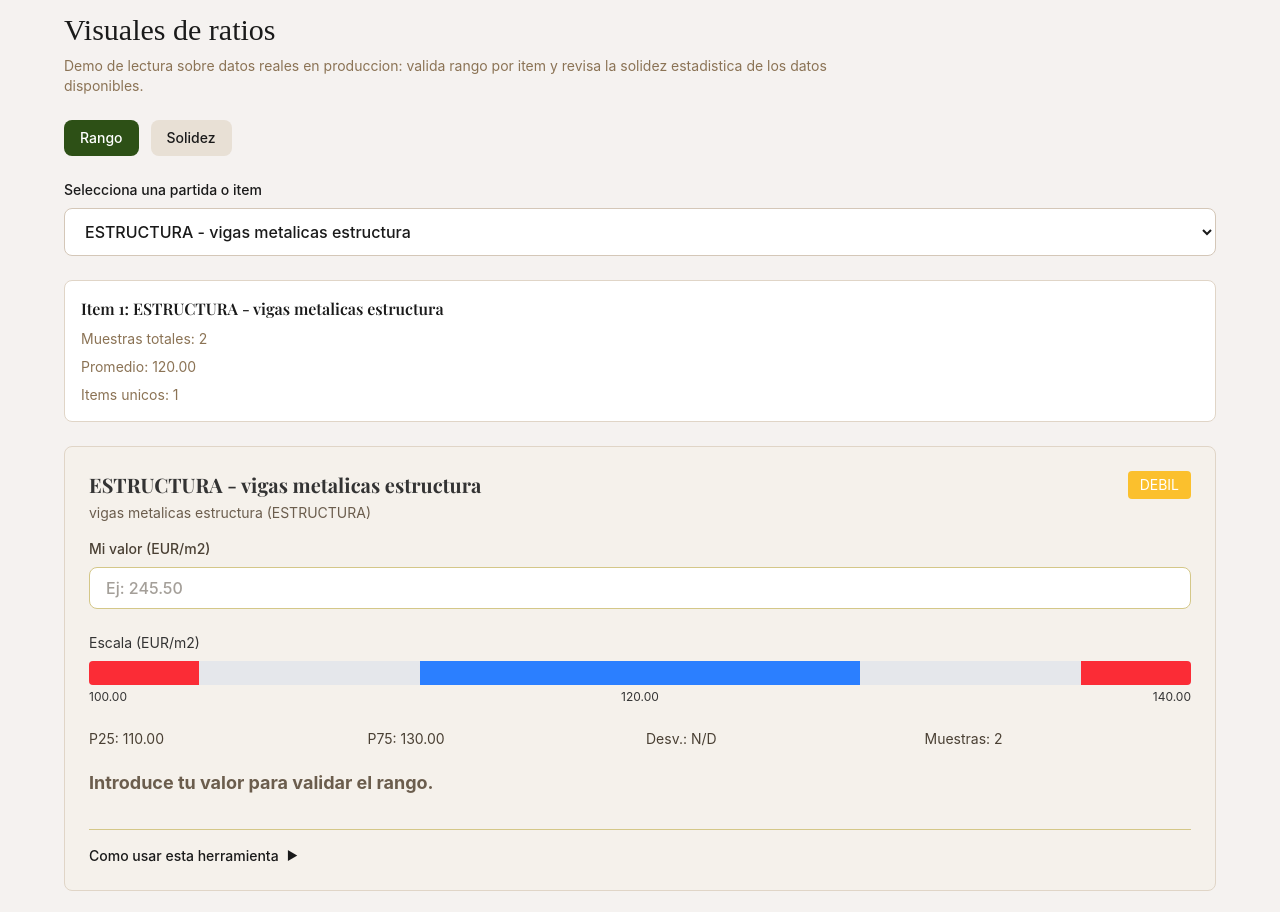
Visuales Integration › cambia el item y pide stats distintos
Step 1. Select "ESTRUCTURA - forjado hormigon estructura" in the dropdown labelled "Selecciona una partida o item" → (640, 232), box [64,208,1216,256]
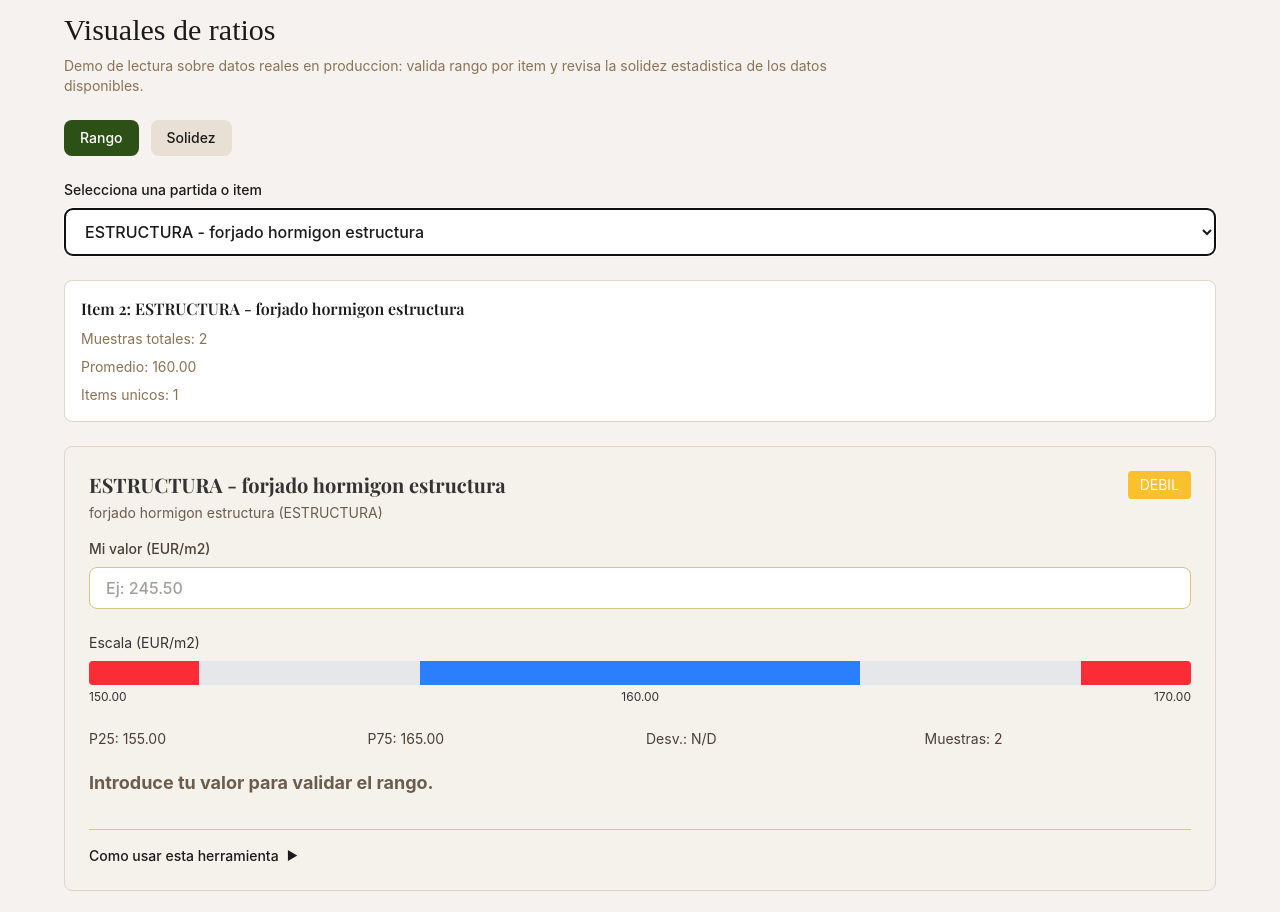
Expected: the heading "Item 2: ESTRUCTURA - forjado hormigon estructura" is shown, [81,298,464,319]
